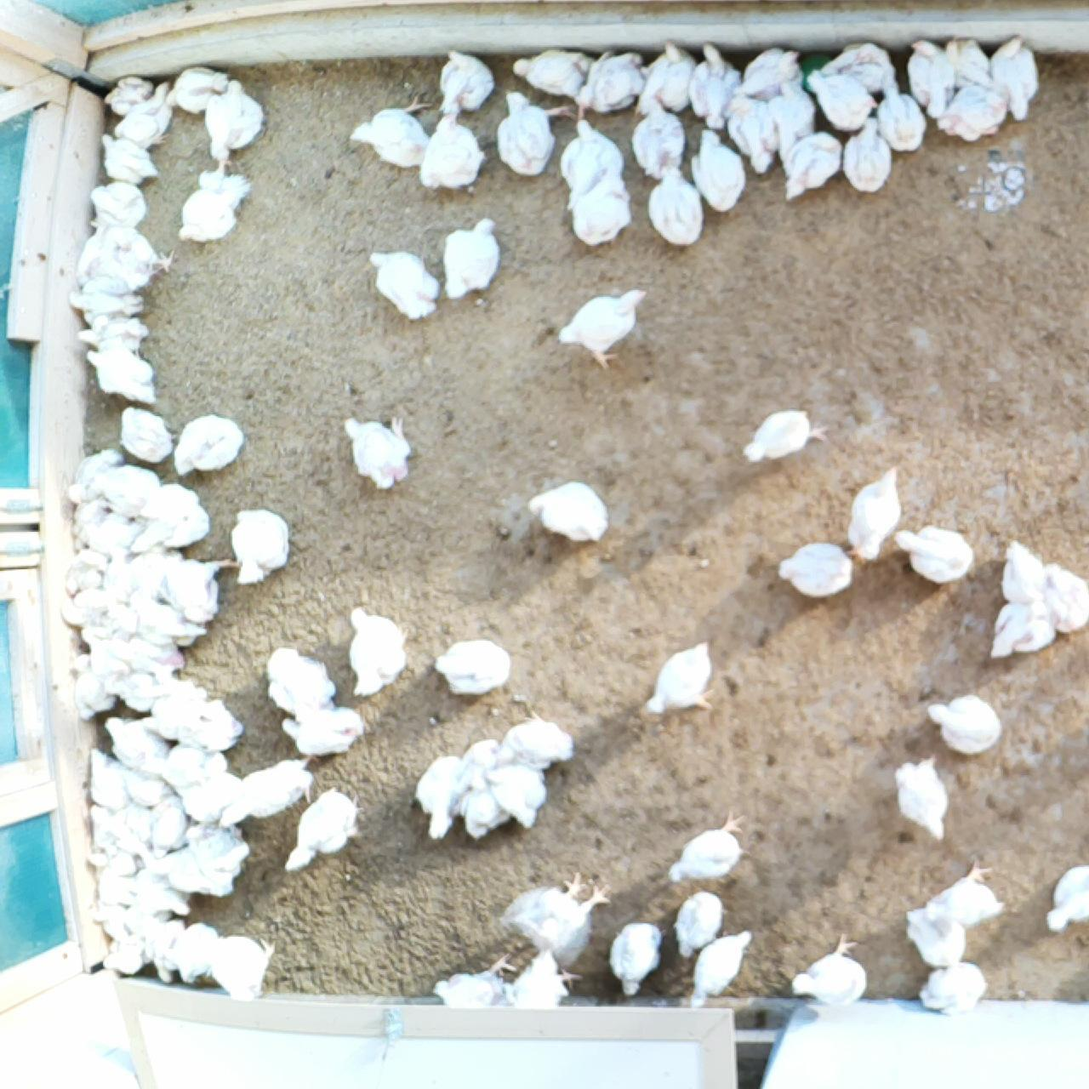chicken: (493, 865, 612, 977), (281, 780, 369, 874), (215, 754, 318, 832), (833, 459, 907, 566), (557, 285, 649, 371), (66, 220, 175, 291), (641, 630, 724, 723), (520, 475, 617, 554), (496, 87, 575, 179), (346, 594, 410, 705), (774, 530, 860, 612), (667, 806, 761, 881), (348, 89, 434, 170), (409, 950, 515, 1015), (158, 543, 241, 626), (788, 932, 874, 1010), (197, 75, 268, 169), (174, 168, 256, 249), (257, 639, 340, 717), (928, 681, 1010, 759), (432, 628, 517, 702), (739, 398, 831, 466), (127, 482, 210, 557), (482, 706, 579, 770), (685, 928, 758, 1013), (410, 110, 487, 190), (925, 856, 1008, 929), (892, 757, 955, 853), (556, 116, 624, 203), (567, 164, 634, 251), (688, 121, 749, 216), (405, 755, 470, 844), (339, 415, 413, 493), (442, 213, 504, 306), (643, 158, 707, 248), (508, 36, 596, 101), (570, 46, 652, 114), (110, 75, 181, 151), (141, 847, 239, 902), (226, 505, 295, 583), (897, 523, 976, 591), (371, 245, 439, 324), (983, 598, 1057, 670), (168, 410, 245, 479), (608, 914, 667, 1004), (897, 34, 958, 121), (778, 129, 843, 210), (174, 750, 245, 824), (482, 759, 548, 838), (685, 40, 741, 131), (630, 39, 696, 115), (280, 701, 368, 757), (818, 35, 895, 99), (118, 588, 209, 642), (630, 92, 688, 176), (992, 29, 1043, 124), (81, 347, 163, 406), (432, 44, 494, 121), (722, 90, 777, 175), (807, 69, 882, 131), (934, 81, 1010, 142), (90, 124, 165, 185), (914, 960, 989, 1021), (765, 81, 818, 167), (66, 271, 149, 325), (734, 46, 806, 107), (209, 932, 273, 1000), (875, 72, 927, 155), (999, 532, 1053, 611), (841, 112, 893, 193), (511, 947, 583, 1005), (903, 904, 968, 968), (676, 883, 726, 960), (163, 61, 230, 118), (115, 405, 175, 468), (104, 711, 172, 766), (72, 310, 152, 356), (182, 696, 247, 752), (73, 508, 144, 559), (135, 738, 212, 785), (185, 820, 251, 873), (145, 911, 191, 987), (62, 447, 122, 505), (1044, 561, 1089, 638), (95, 464, 163, 514), (87, 177, 150, 230), (132, 864, 195, 916), (1043, 864, 1089, 934), (84, 801, 152, 848), (111, 548, 182, 593), (145, 789, 191, 858), (88, 745, 136, 811), (175, 919, 219, 987), (66, 653, 113, 714), (940, 31, 989, 89), (138, 694, 201, 739), (97, 69, 154, 115), (111, 633, 185, 667), (462, 730, 501, 792), (62, 548, 105, 603), (55, 588, 110, 627), (81, 843, 138, 878), (100, 931, 143, 975), (82, 628, 127, 670), (107, 671, 161, 706), (65, 495, 106, 541), (157, 665, 210, 698), (88, 871, 135, 907), (85, 896, 123, 937), (107, 594, 140, 633), (127, 905, 171, 934)
